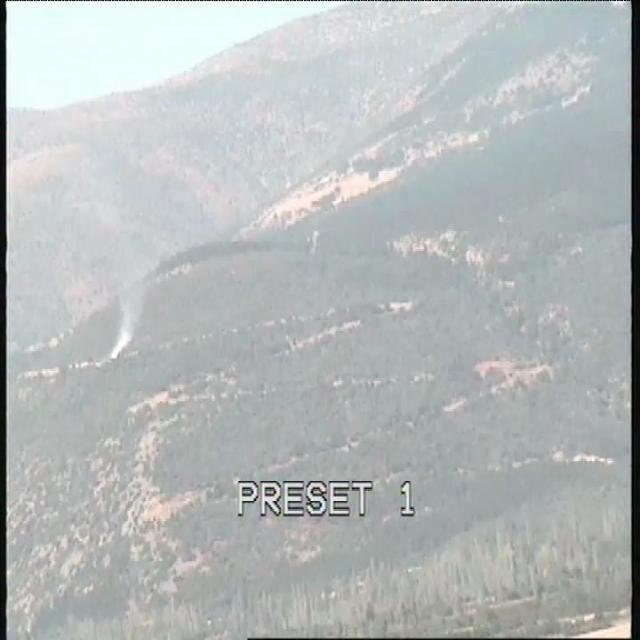smoke: (107, 300, 143, 362)
